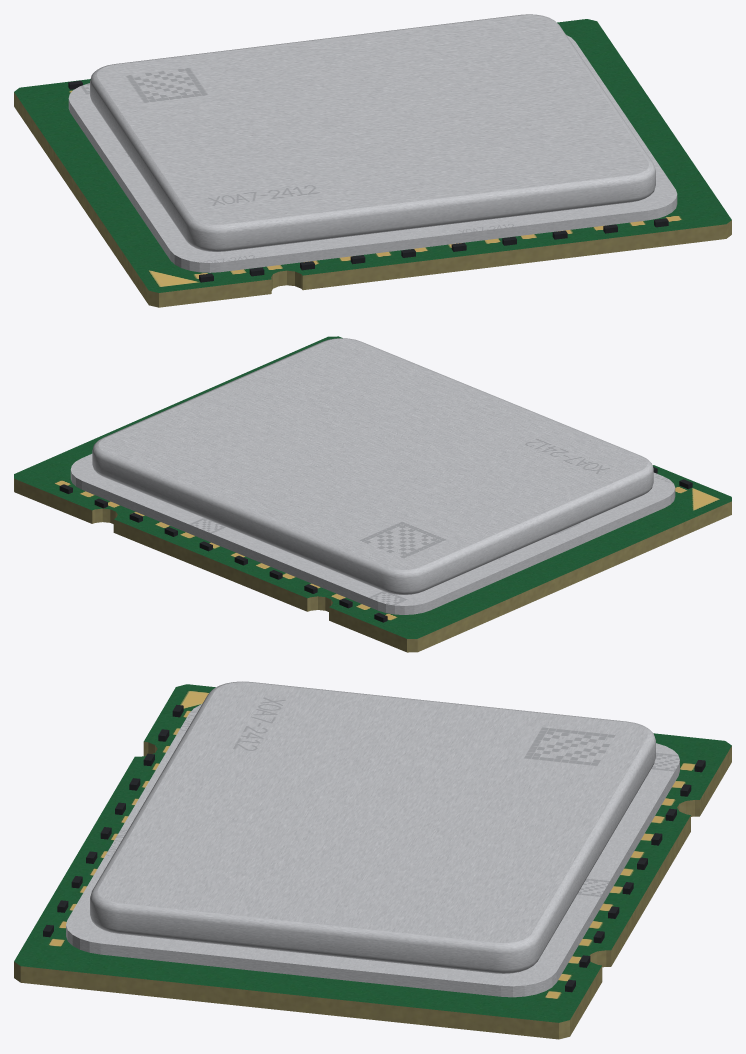
File: cpu.glb
3 renders of one model, top to bottom at view 1: azimuth 30°, elevation 25°; view 2: azimuth 150°, elevation 25°; view 3: azimuth 270°, elevation 25°, orthographic. The views are drawn at different scales.
Parts seen in each view (by area): view 1: Integrated heat spreader, Processor package substrate; view 2: Integrated heat spreader, Processor package substrate; view 3: Integrated heat spreader, Processor package substrate.
Part boxes in pixels (x1,y1,x2,y2): Integrated heat spreader: (68, 14, 677, 272); Processor package substrate: (14, 19, 731, 307); Integrated heat spreader: (70, 338, 675, 614); Processor package substrate: (14, 336, 731, 652); Integrated heat spreader: (66, 681, 679, 997); Processor package substrate: (14, 684, 731, 1039).
Size of the model in its own units: 0.0524 by 0.00415 by 0.047.
Materials: 5 (5 with a texture image).
